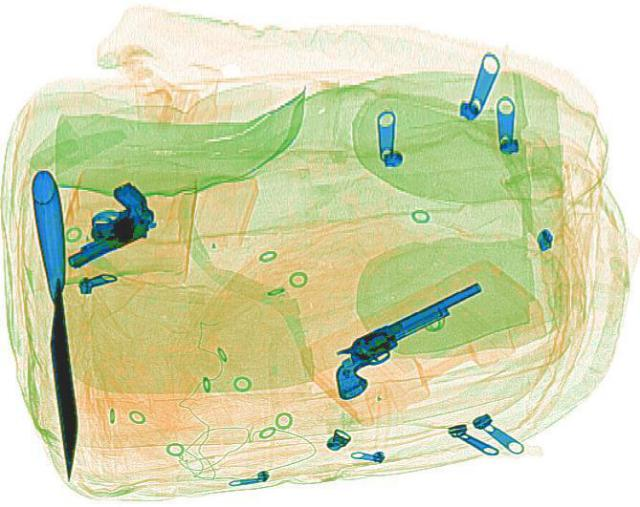Gun: (304, 280, 512, 400), (33, 178, 171, 269)
Knife: (26, 165, 92, 480)
